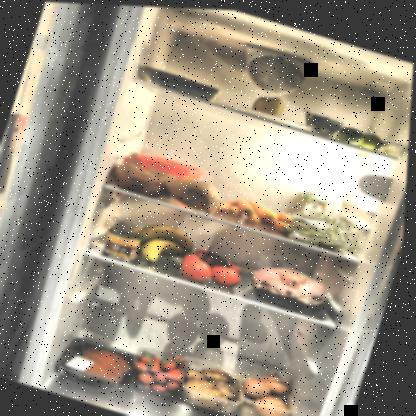banana: (123, 212, 207, 273)
beef: (73, 339, 136, 383)
butter: (128, 144, 215, 185)
carrot: (215, 186, 302, 234)
cheese: (251, 89, 290, 119)
chicken: (248, 255, 344, 319)
corn: (101, 225, 150, 270)
green_beans: (287, 199, 370, 261)
heavy_cream: (297, 187, 332, 229)
lime: (337, 122, 389, 150)
onion: (238, 361, 305, 415)
potato: (185, 359, 252, 415)
strawberries: (131, 342, 196, 397)
sweet_potato: (108, 154, 228, 218)
tomato: (176, 237, 253, 292)
